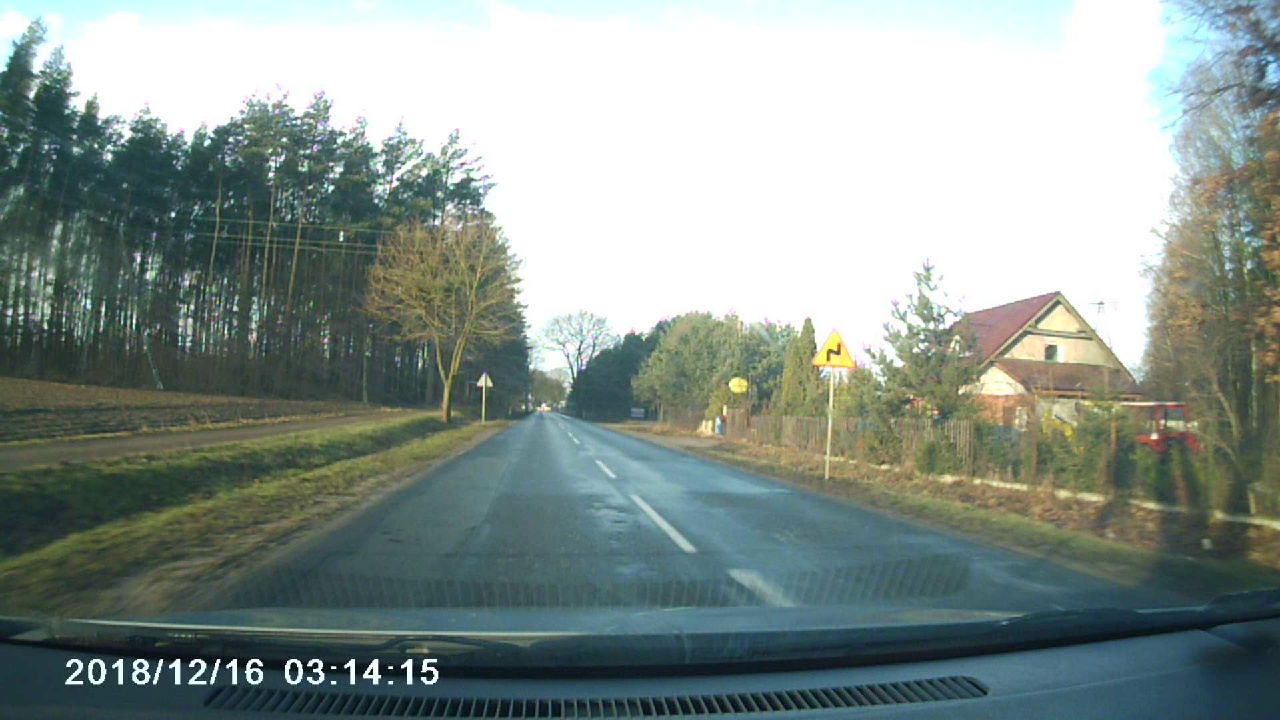A3: (812, 329, 856, 368)
